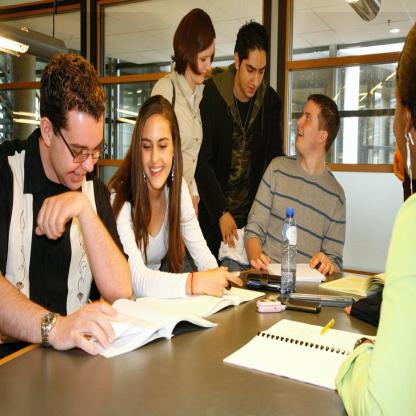face: (54, 107, 105, 190), (142, 117, 176, 189), (243, 44, 268, 100), (296, 100, 320, 151), (194, 35, 216, 84)
